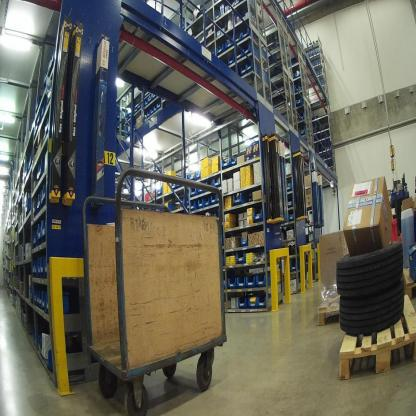pallet: (332, 292, 415, 381), (312, 266, 401, 321), (403, 251, 415, 298)
